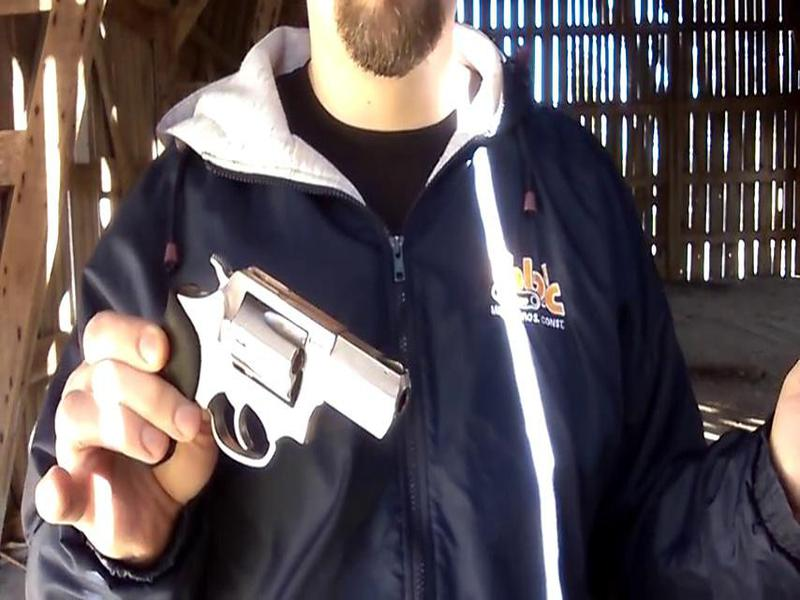Revolver: (149, 239, 425, 483)
